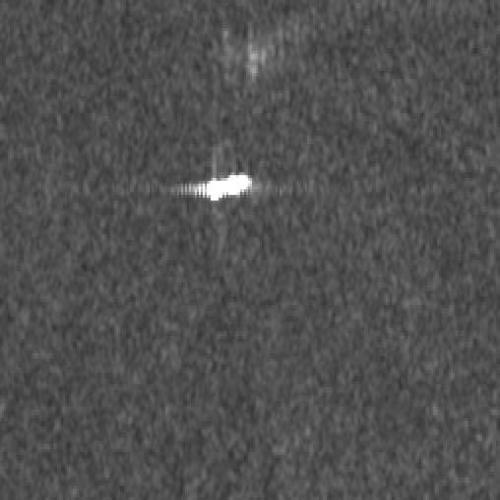ship: (201, 171, 254, 200)
